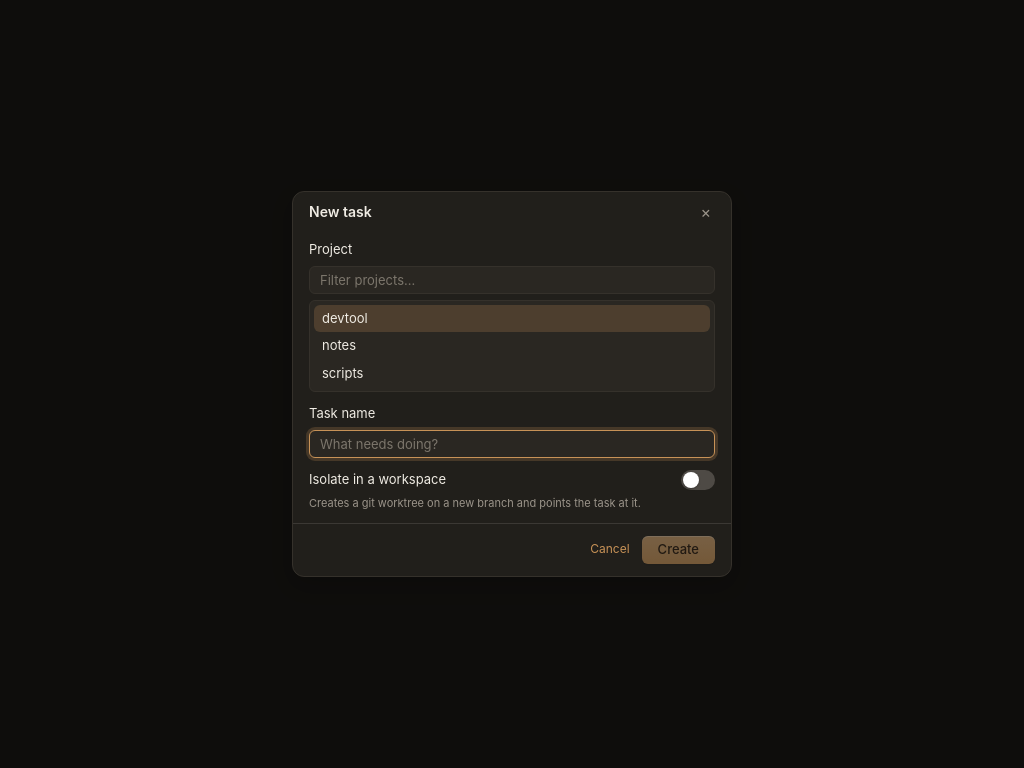
Scenario: NewTaskModal › cancelling an in-flight workspace creation › still creates the task when nobody cancels
This screenshot has width=1024, height=768.
Type "Fix the badge" into the field with placeholder "What needs doing?".
click(512, 444); type("Fix the badge")  # box [309,430,715,458]
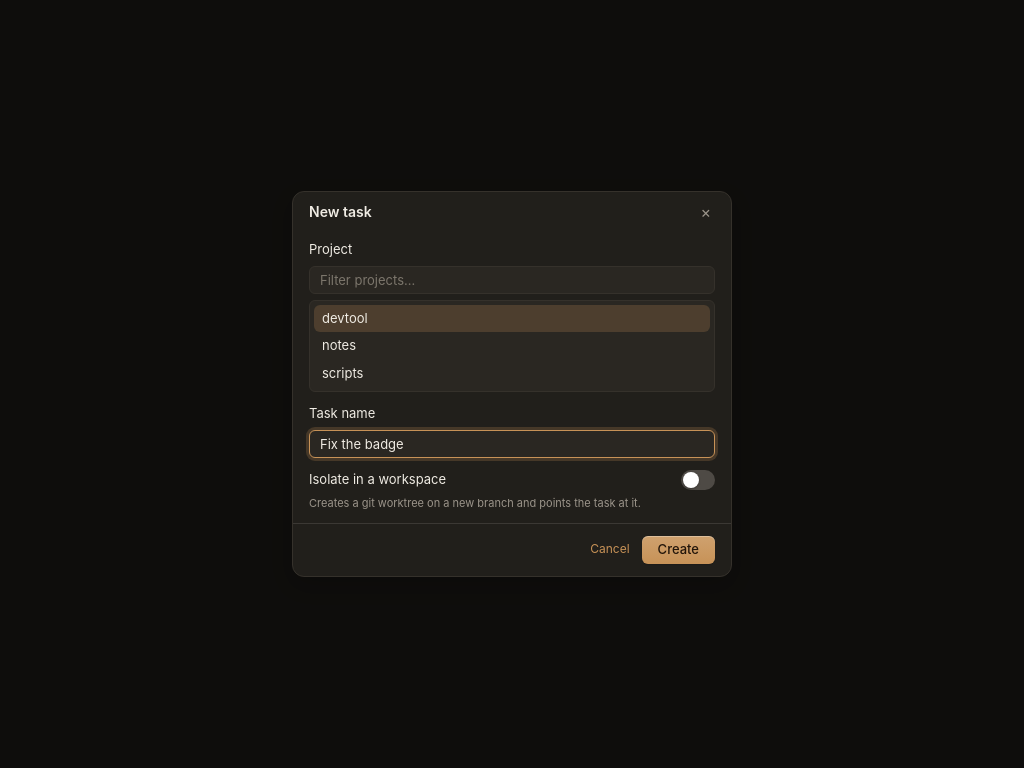
Click the switch.
click(698, 480)  # box [681,470,715,490]
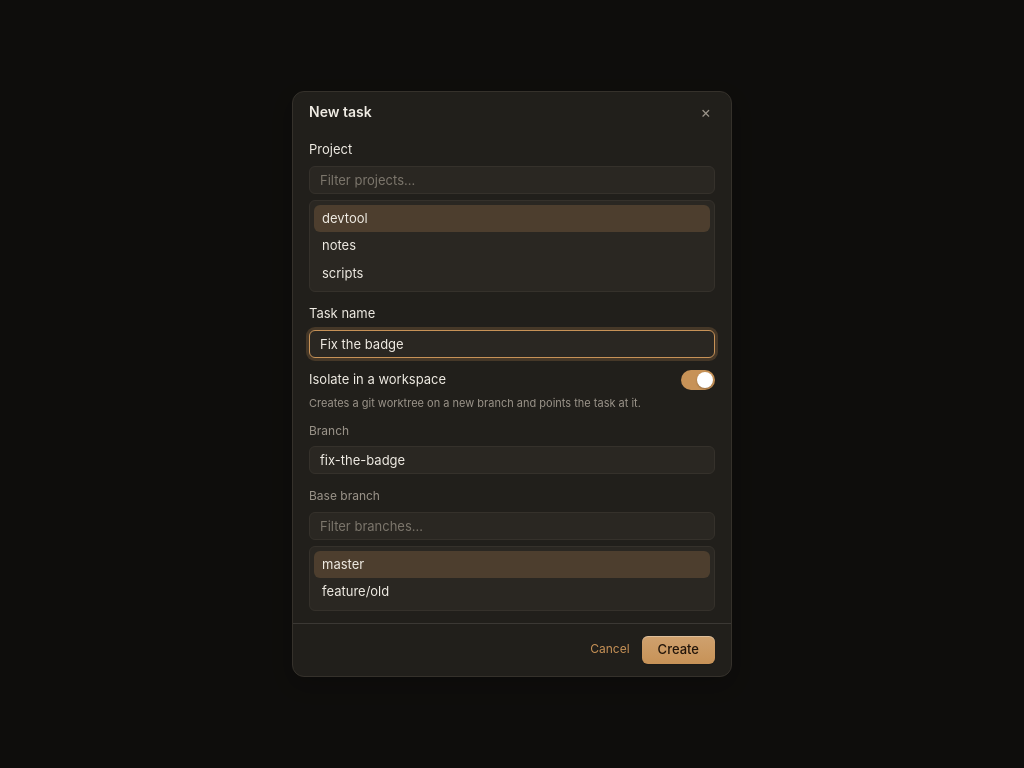
Click the button "Create".
click(678, 650)  # box [642,636,715,664]
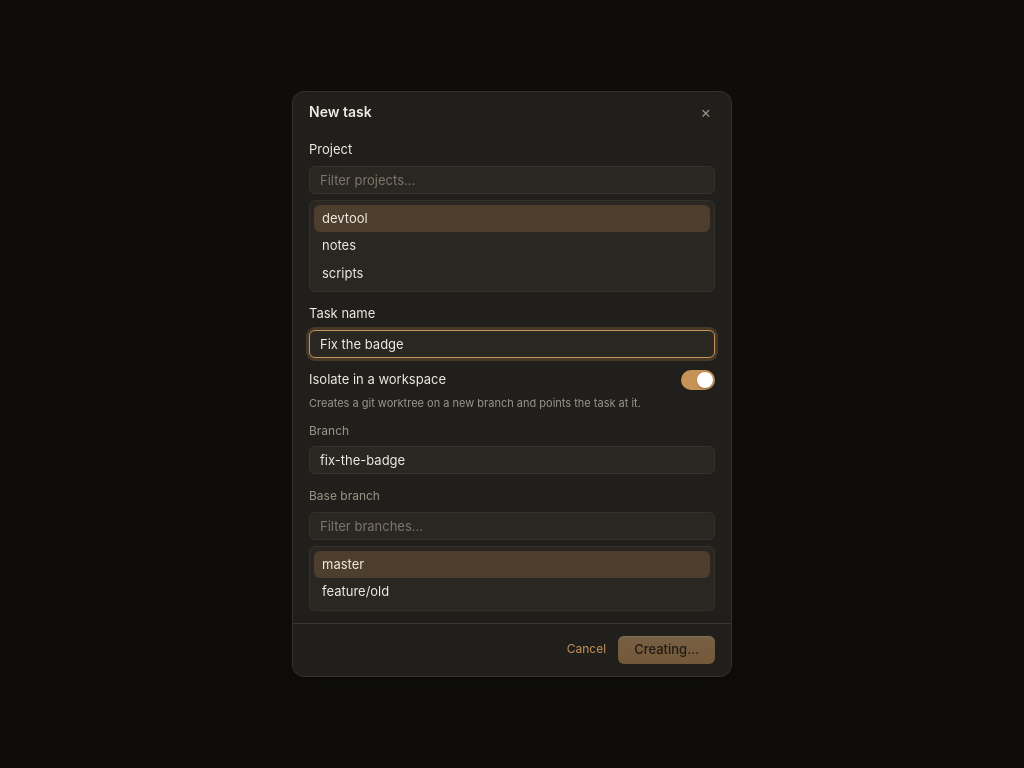
Check: the button "Creating…" is shown, box [618,636,715,664]
